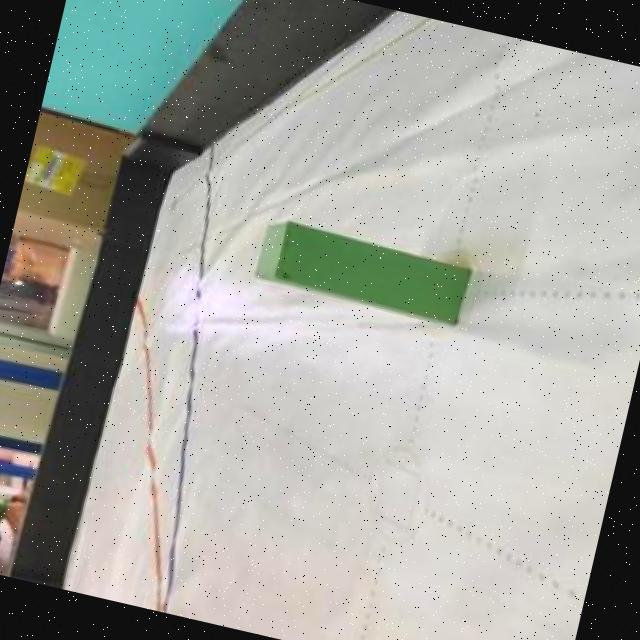greenbox: (248, 211, 476, 326)
